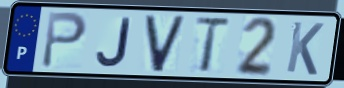2: (235, 15, 279, 78)
J: (94, 16, 133, 69)
K: (284, 19, 326, 78)
P: (39, 10, 90, 71)
T: (192, 16, 232, 75)
V: (143, 14, 189, 75)
